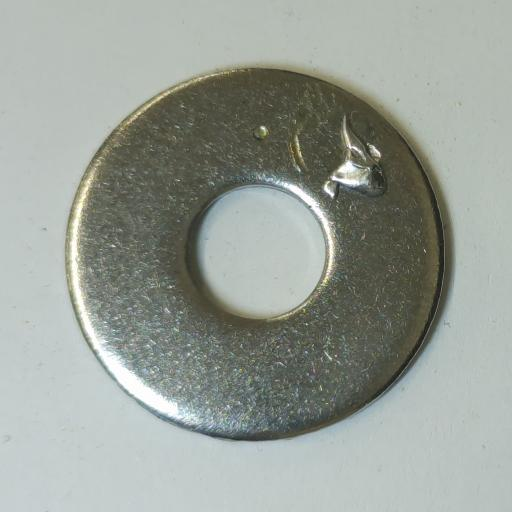excess_material: (324, 115, 387, 200)
